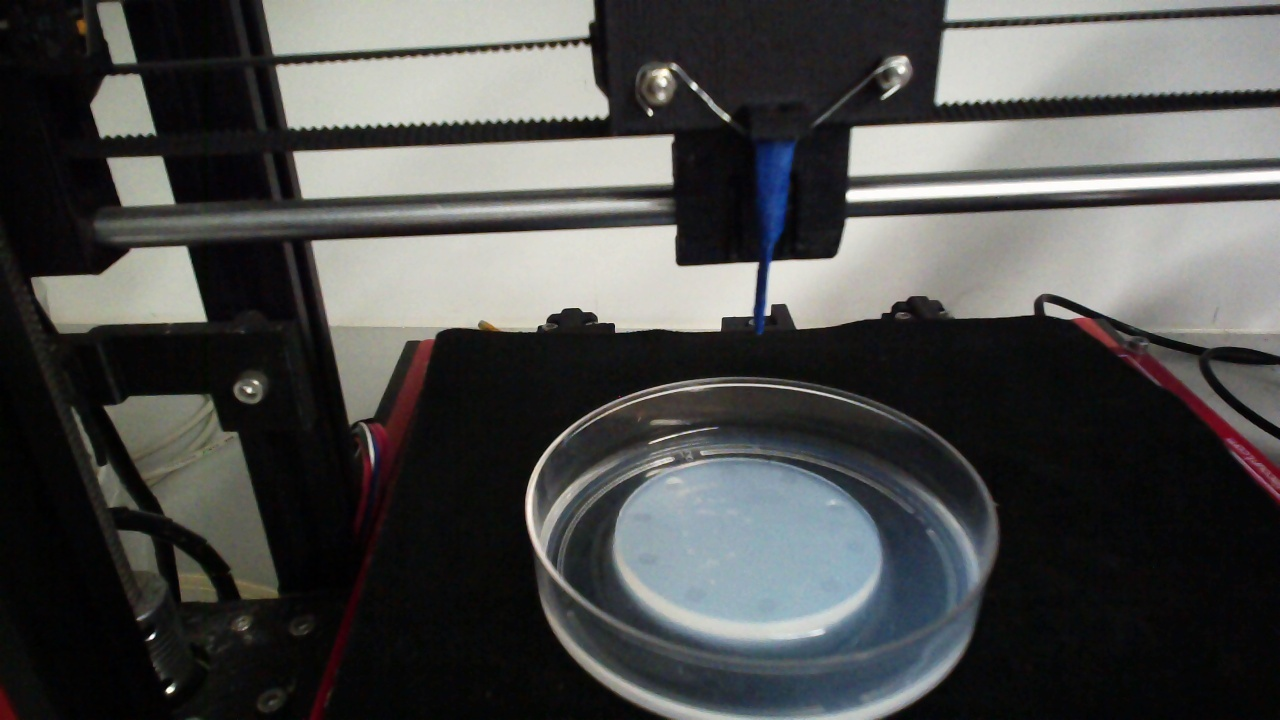groove: (681, 583, 705, 604), (754, 595, 778, 616), (777, 468, 801, 488), (845, 537, 867, 556), (820, 575, 841, 594), (823, 498, 846, 515), (664, 476, 684, 493), (629, 509, 652, 523), (636, 552, 657, 565)
needle: (756, 139, 795, 338)
